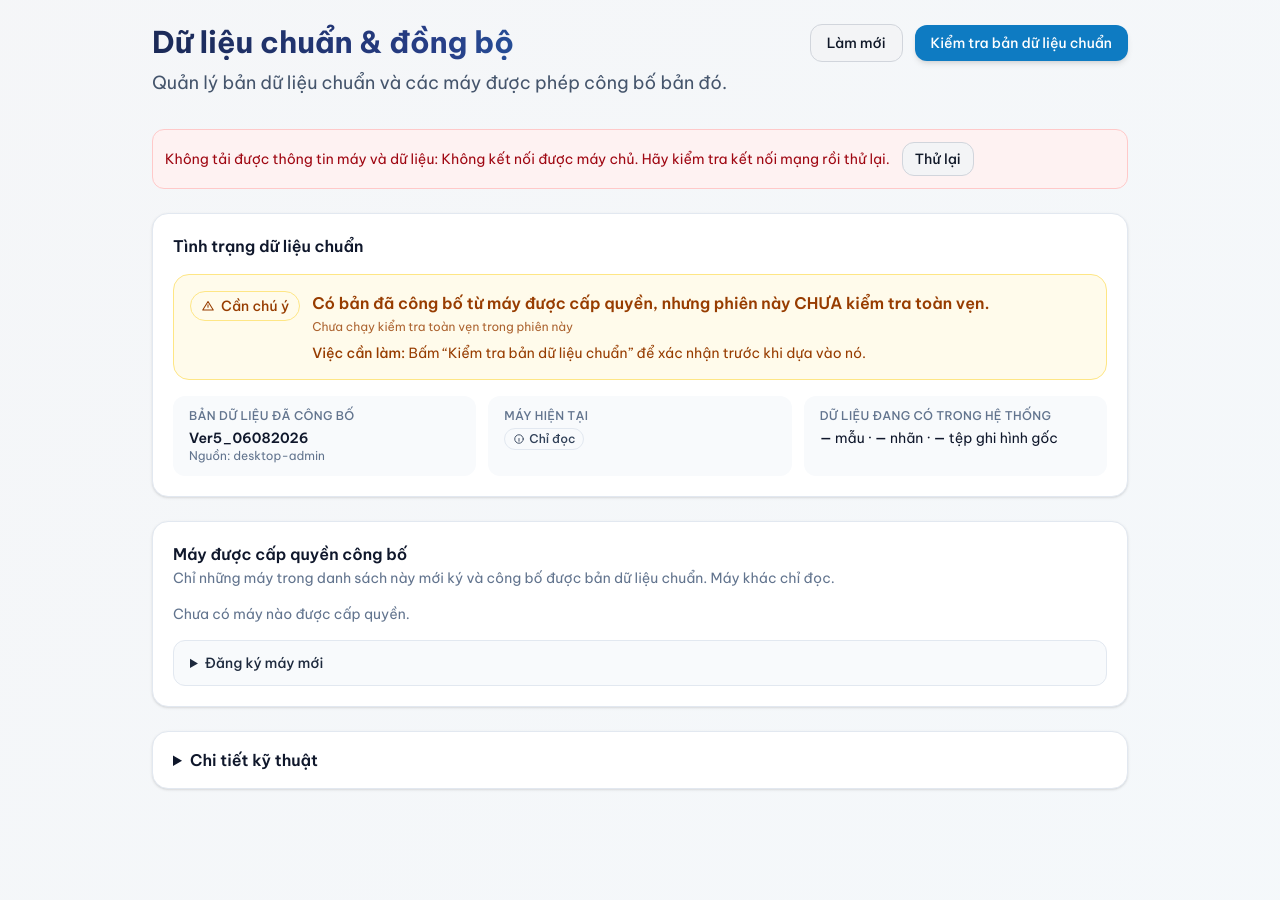
Test case: SotAdminPage › lỗi tải tổng quan GIỮ trên trang với nút Thử lại — SOT-02
Expected: the 1st message shows "Không tải được thông tin máy và dữ liệu", [165, 150, 890, 168]
Click the button "Thử lại": (938, 159) [902, 142, 974, 176]
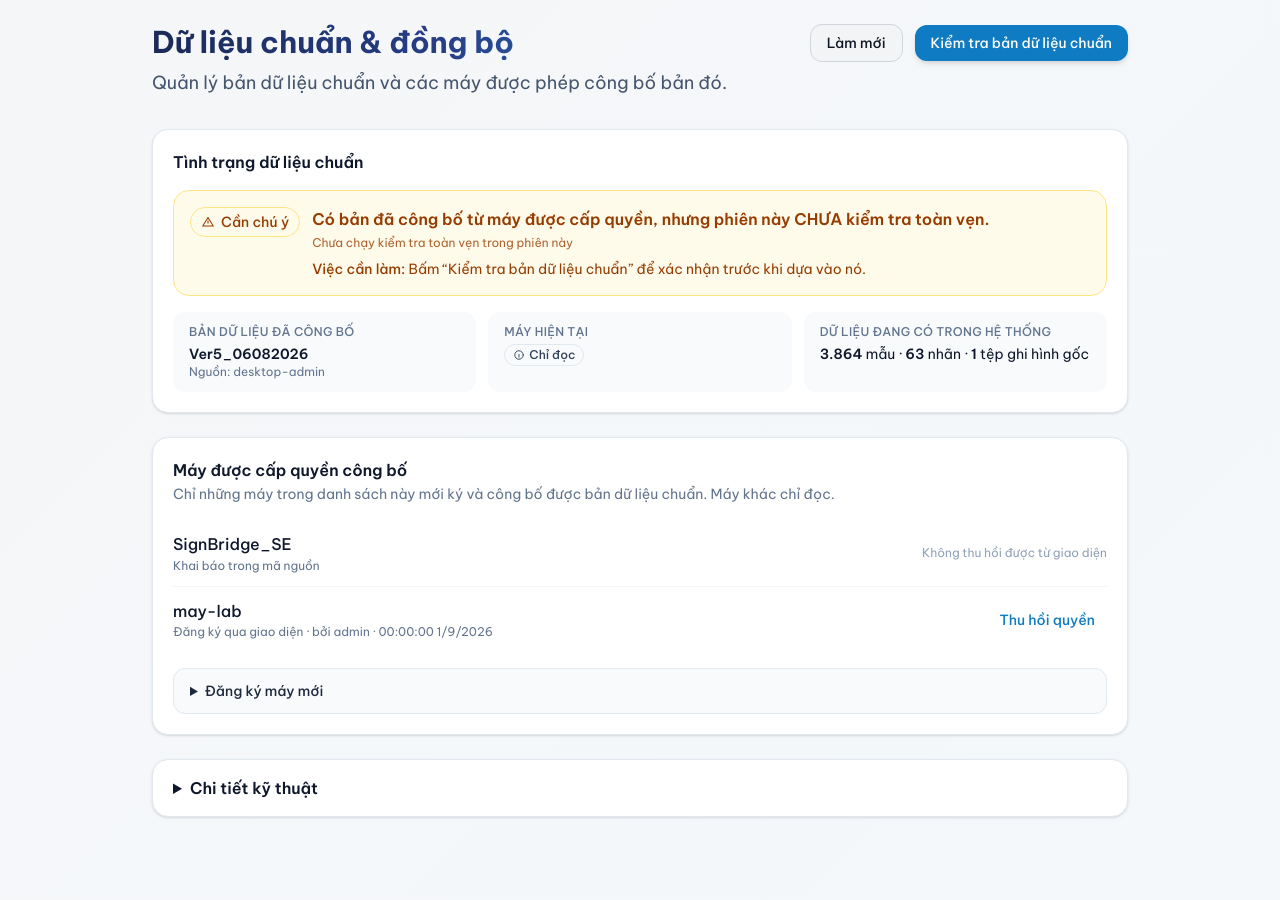
Result: the text "may-lab" is shown at [173, 601, 242, 621]
